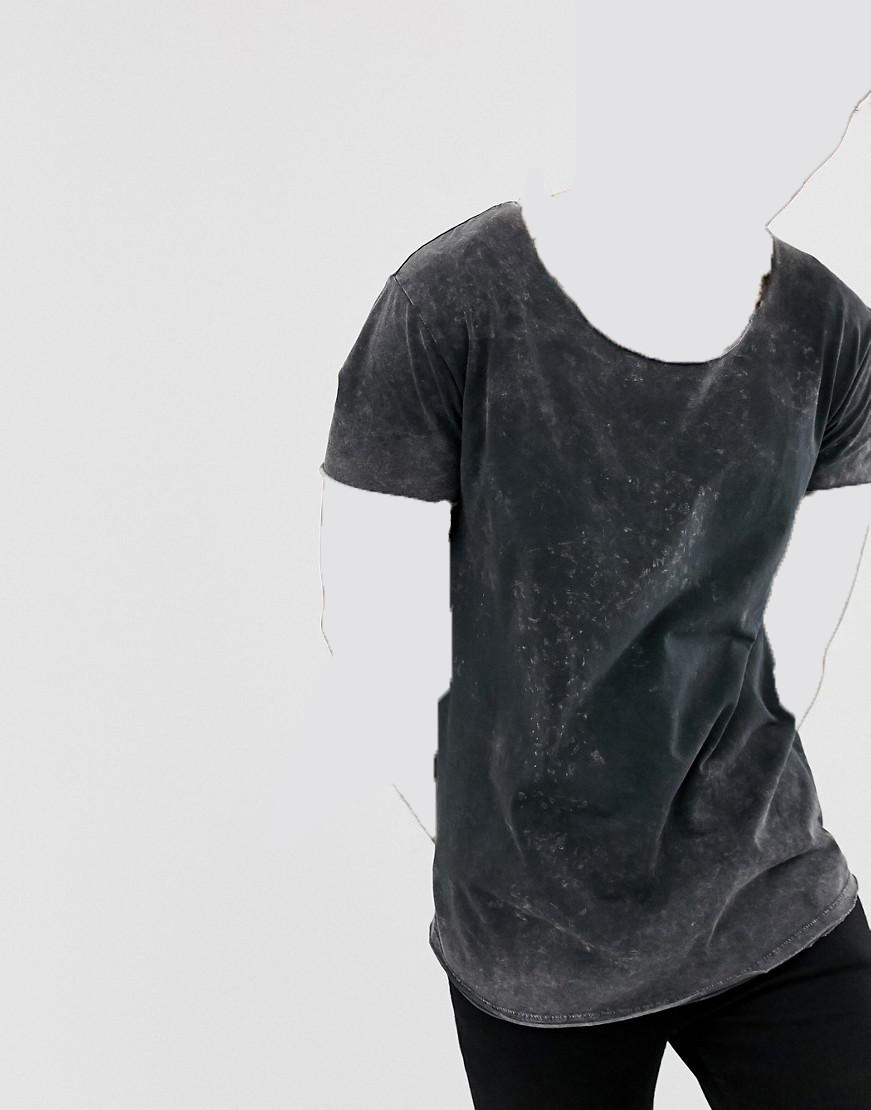teeshirt: (310, 188, 871, 1034)
